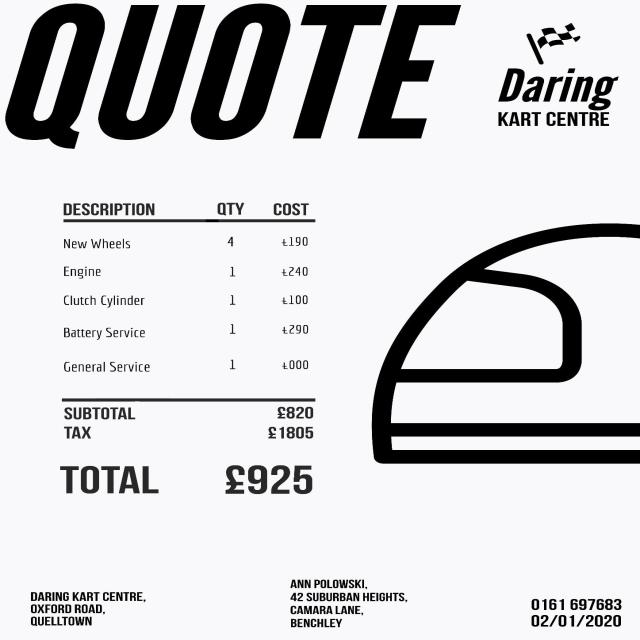paragraph: (2, 0, 466, 146), (56, 401, 328, 502), (278, 576, 422, 628), (498, 70, 618, 130), (24, 588, 154, 630), (518, 596, 626, 630)
table: (58, 194, 320, 386)
